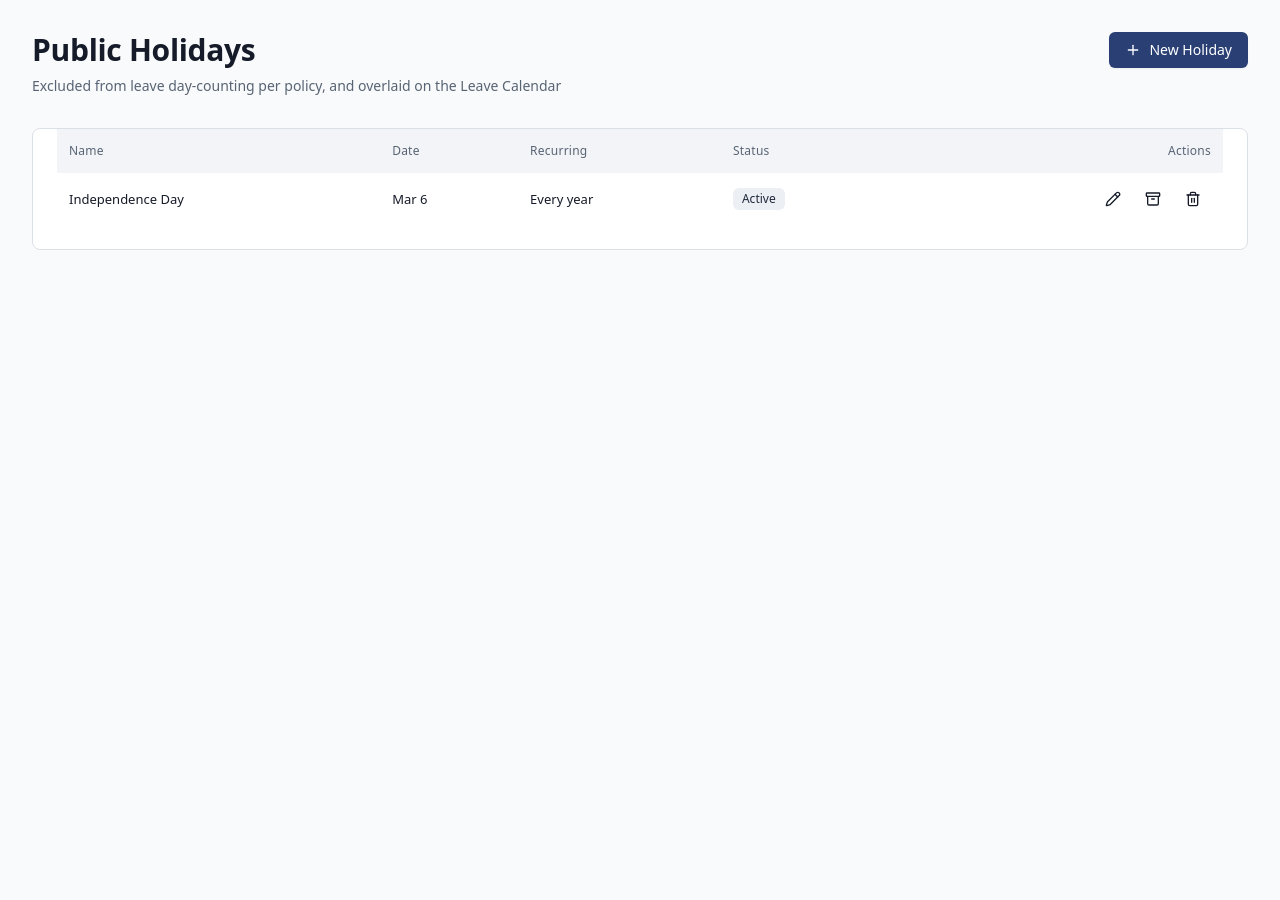
Test: Public Holidays page — confirmations › Delete warns that it is permanent, and Cancel deletes nothing
The width and height of the screenshot is (1280, 900).
Click the button with test id "button-delete-holiday-1" at (1193, 199), box [1175,181,1211,217]
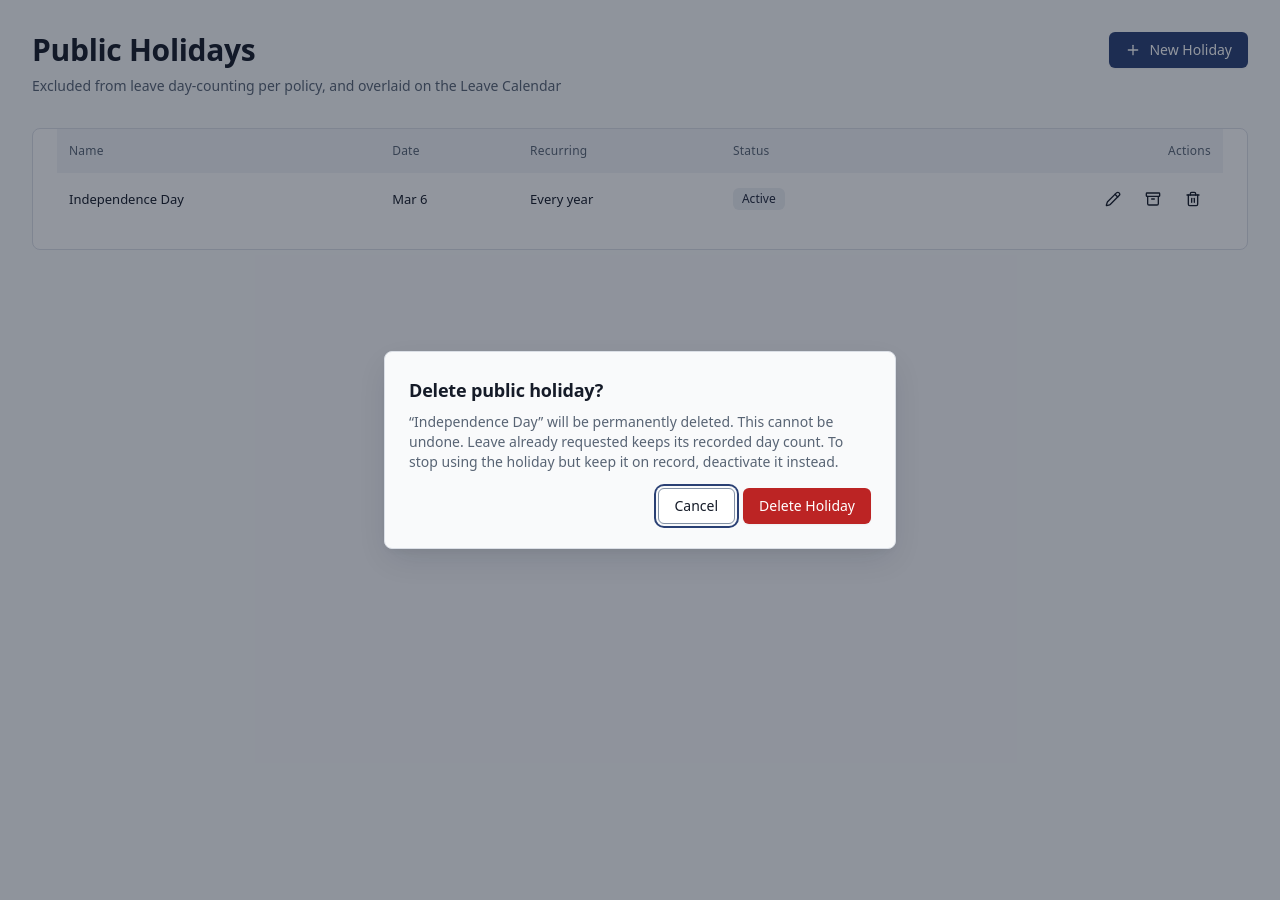
Expected: the dialog with test id "dialog-delete-holiday" shows "Delete public holiday?", [409,378,603,402]
Expected: the dialog with test id "dialog-delete-holiday" shows "cannot be undone", [409,412,843,471]
Click the button with test id "dialog-delete-holiday-cancel" at (696, 506), box [658,488,735,524]
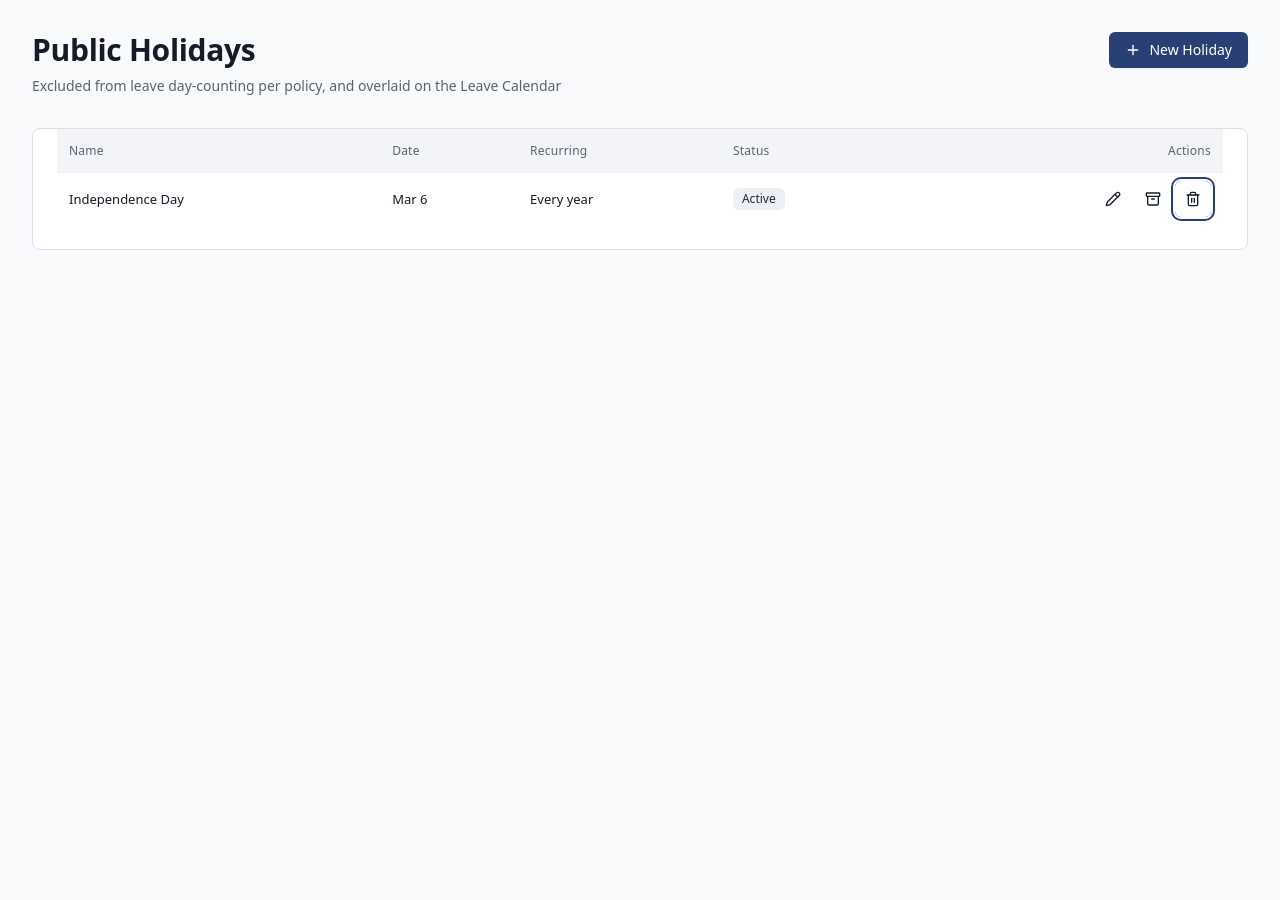
Expected: the dialog with test id "dialog-delete-holiday" is gone
